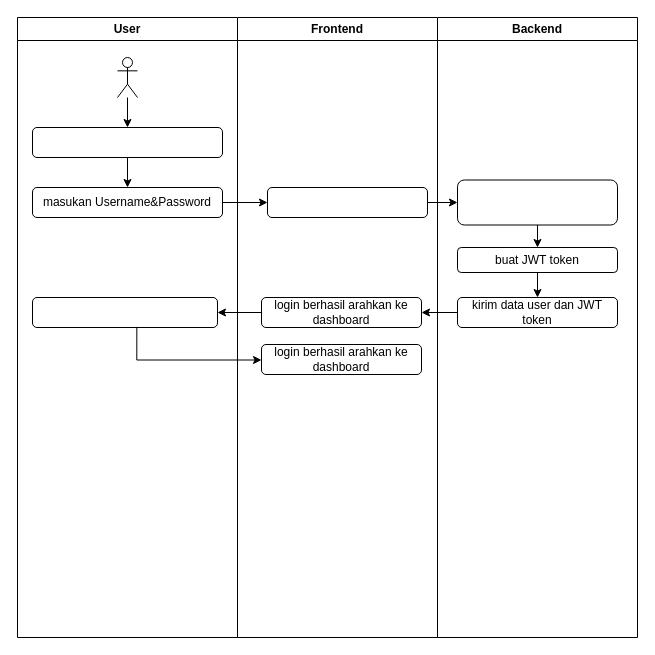
The diagram is 655 pixels wide and 655 high, and some of its shapes have lost their labels. Each missing label, with the centre of its shape:
"buat prediksi diabetes" belongs at point 125,312.
"Login" belongs at point 127,142.
"pengecekan username&password diDatabase" belongs at point 537,202.
"Post login(username&password)" belongs at point 347,202.
